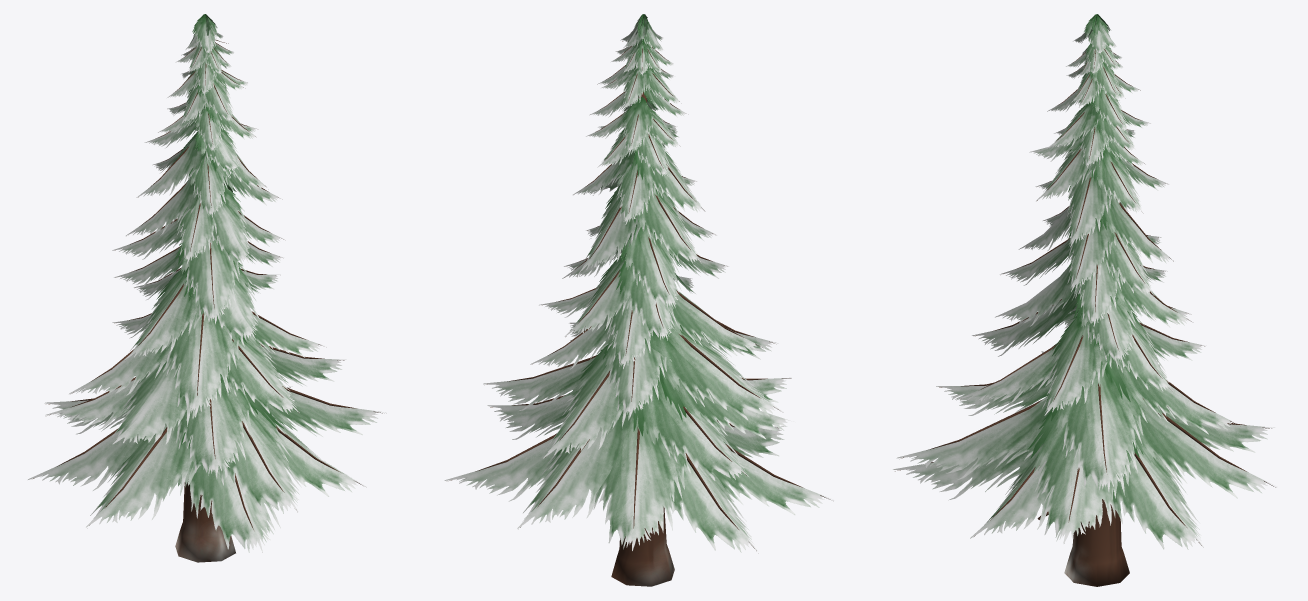
File: PineTree04.fbx
3 renders of one model, left to right at view 1: azimuth 30°, elevation 25°; view 2: azimuth 150°, elevation 25°; view 3: azimuth 270°, elevation 25°, orthographic. The views are drawn at different scales.
Parts seen in each view (by area): view 1: Cube.010, pineNeedles02.008, pineNeedles02.001, Cube.012, pineNeedles02.013, pineNeedles02, Cube.003, Cube.001, Cube.005, pineNeedles02.006, pineNeedles02.012, Cylinder.001 (+24 smaller); view 2: pineNeedles02.010, Cube.009, Cube.013, pineNeedles02.017, Cube.011, pineNeedles02.012, Cube.015, Cube.010, Cylinder.001, pineNeedles02.009, Cube.028, pineNeedles02 (+22 smaller); view 3: pineNeedles02.011, pineNeedles02.006, pineNeedles02.009, Cube.013, pineNeedles02.001, Cube.004, Cylinder.001, Cube.011, pineNeedles02.013, Cube.007, Cube.008, Cube.029 (+21 smaller).
Part boxes in pixels (x1=…): Cube.010: x1=86, y1=420, x2=203, y2=527; pineNeedles02.008: x1=161, y1=313, x2=244, y2=417; pineNeedles02.001: x1=181, y1=408, x2=301, y2=513; Cube.012: x1=175, y1=374, x2=255, y2=475; pineNeedles02.013: x1=178, y1=461, x2=280, y2=552; pineNeedles02: x1=111, y1=361, x2=195, y2=444; Cube.003: x1=175, y1=236, x2=242, y2=324; Cube.001: x1=125, y1=266, x2=206, y2=360; Cube.005: x1=226, y1=334, x2=299, y2=414; pineNeedles02.006: x1=244, y1=389, x2=385, y2=436; pineNeedles02.012: x1=28, y1=428, x2=146, y2=490; Cylinder.001: x1=175, y1=481, x2=235, y2=562; pineNeedles02.010: x1=591, y1=415, x2=691, y2=550; Cube.009: x1=645, y1=326, x2=782, y2=420; Cube.013: x1=517, y1=410, x2=654, y2=528; pineNeedles02.017: x1=633, y1=378, x2=748, y2=480; Cube.011: x1=543, y1=345, x2=652, y2=458; pineNeedles02.012: x1=661, y1=447, x2=757, y2=552; Cube.015: x1=617, y1=222, x2=681, y2=307; Cube.010: x1=712, y1=444, x2=832, y2=514; Cylinder.001: x1=611, y1=92, x2=674, y2=586; pineNeedles02.009: x1=444, y1=434, x2=558, y2=501; Cube.028: x1=600, y1=338, x2=671, y2=417; pineNeedles02: x1=657, y1=374, x2=793, y2=439; pineNeedles02.011: x1=1051, y1=361, x2=1147, y2=491; pineNeedles02.006: x1=1027, y1=408, x2=1141, y2=543; pineNeedles02.009: x1=1111, y1=443, x2=1203, y2=549; Cube.013: x1=1128, y1=396, x2=1276, y2=498; pineNeedles02.001: x1=896, y1=399, x2=1052, y2=479; Cube.004: x1=1042, y1=313, x2=1111, y2=415; Cylinder.001: x1=1064, y1=499, x2=1129, y2=586; Cube.011: x1=1105, y1=357, x2=1237, y2=434; pineNeedles02.013: x1=893, y1=443, x2=1044, y2=500; Cube.007: x1=970, y1=457, x2=1053, y2=538; Cube.008: x1=1073, y1=286, x2=1136, y2=362; Cube.029: x1=1067, y1=168, x2=1115, y2=247.
Size of the model in its own units: 1289 by 1936 by 1306.
